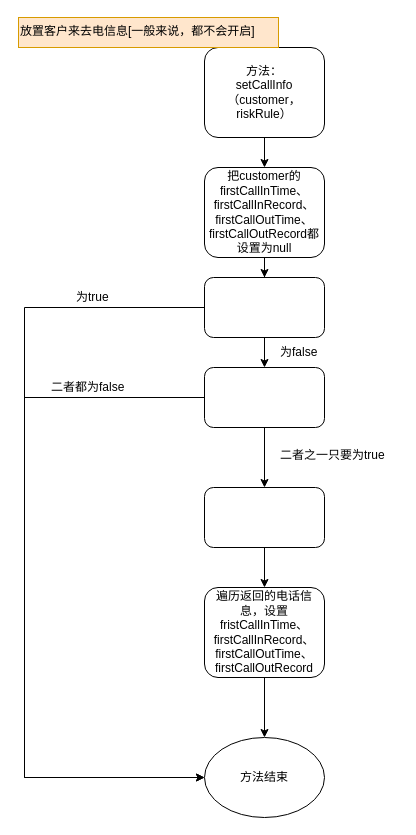
Image size: 416x835. Some labels were removed from this diagram. Here are the shapes that lost their labels. From the top down, the centre of each, then its label:
At pixel 264 307: "null==riskRule".
At pixel 264 397: "riskRule是否开启 allowArriveByCallIn、 allowArriveByCallOut".
At pixel 264 517: "去来去电系统查询电话信息".
